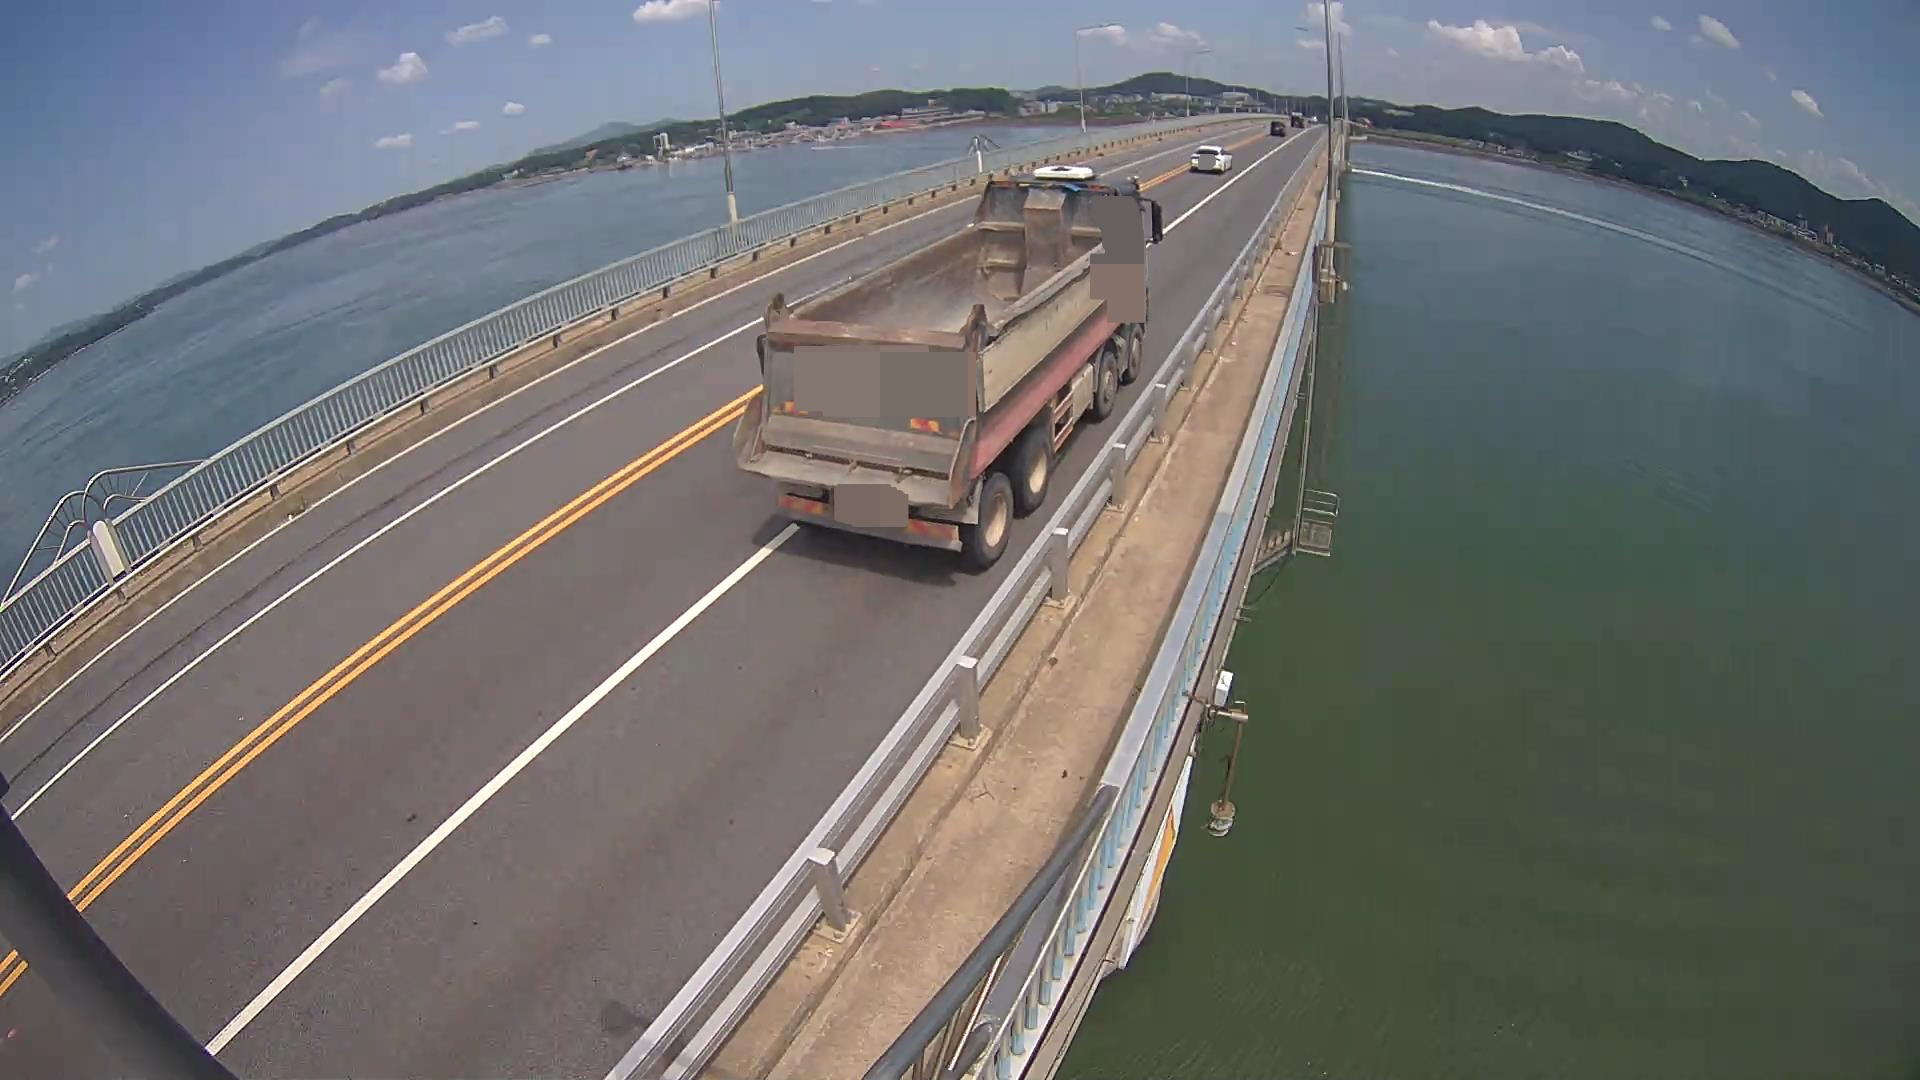정상차량: (732, 174, 1163, 574)
